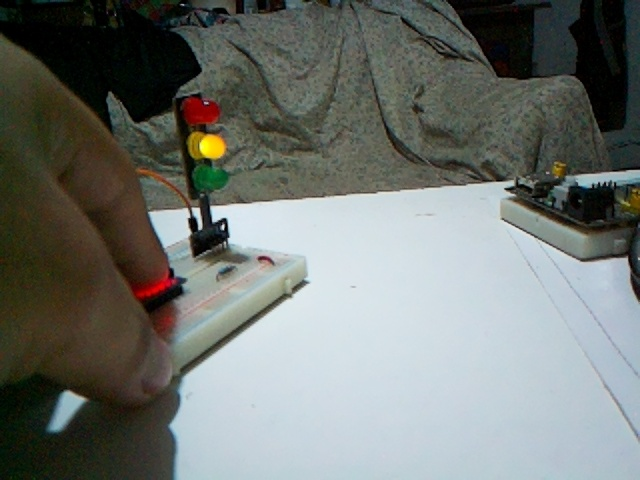traffic_light_yellow: (175, 93, 231, 257)
